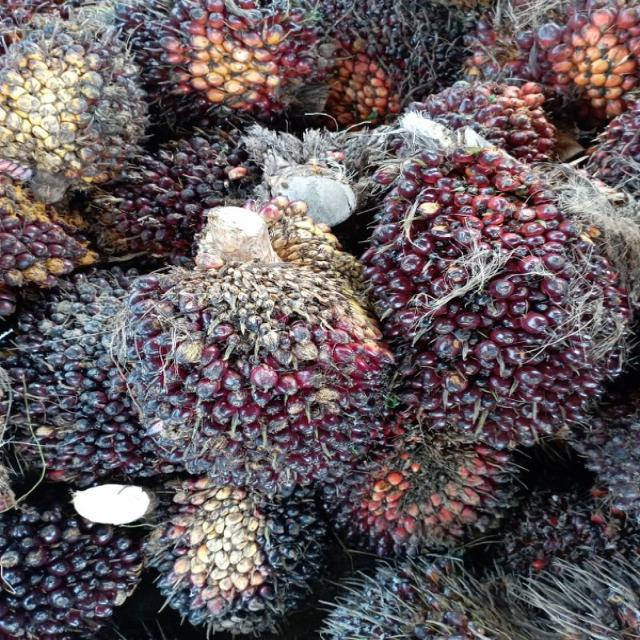fraksi 00: (146, 477, 331, 638), (0, 17, 149, 193), (0, 515, 143, 640)
fraksi 1: (374, 148, 620, 444), (107, 249, 390, 493), (136, 0, 328, 116)
